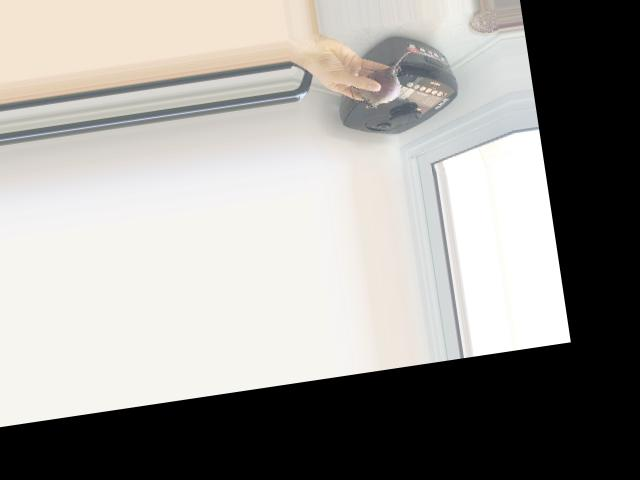beet: (347, 50, 418, 110)
